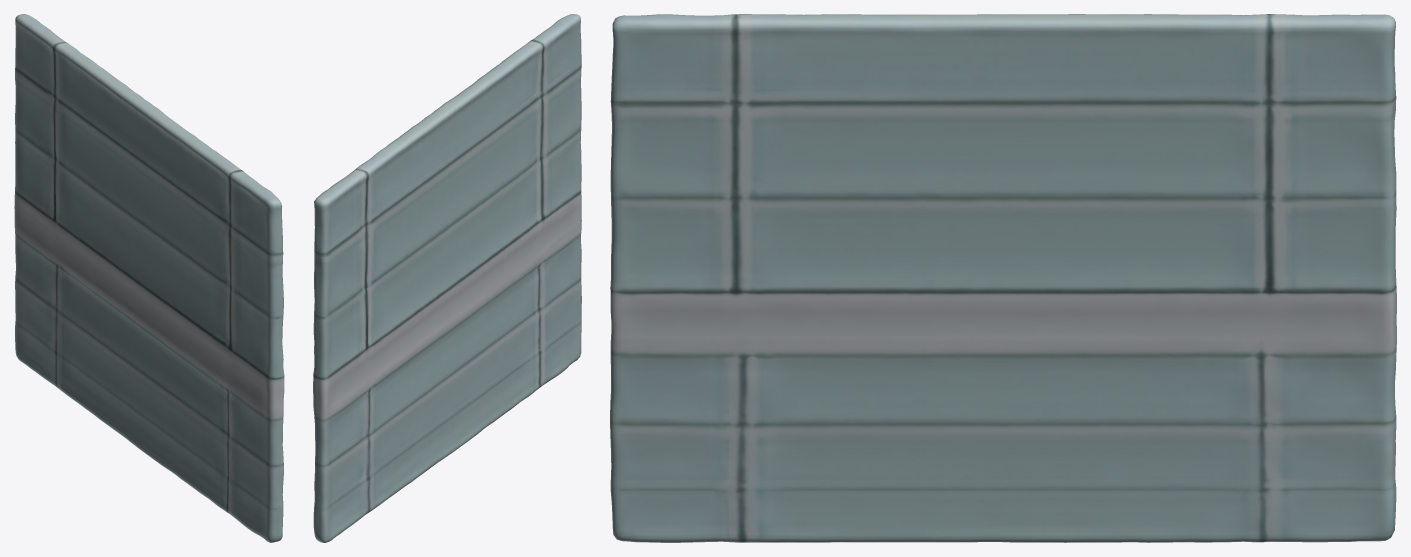
Rendered from c44014a8b65f_hospital_walls__3d_.fbx.
The picture shows the model from 3 angles, left to right: view 1: azimuth 30°, elevation 25°; view 2: azimuth 150°, elevation 25°; view 3: azimuth 270°, elevation 25°; orthographic projection. The views are drawn at different scales.
Parts seen in each view (by area): view 1: mesh; view 2: mesh; view 3: mesh.
Boxes of the visible parts, box(x1,y1,x2,y2) form: mesh: box(14, 14, 284, 542); mesh: box(313, 14, 581, 542); mesh: box(610, 14, 1396, 542).
Size of the model in its own units: 3.63 by 73.24 by 99.84.
